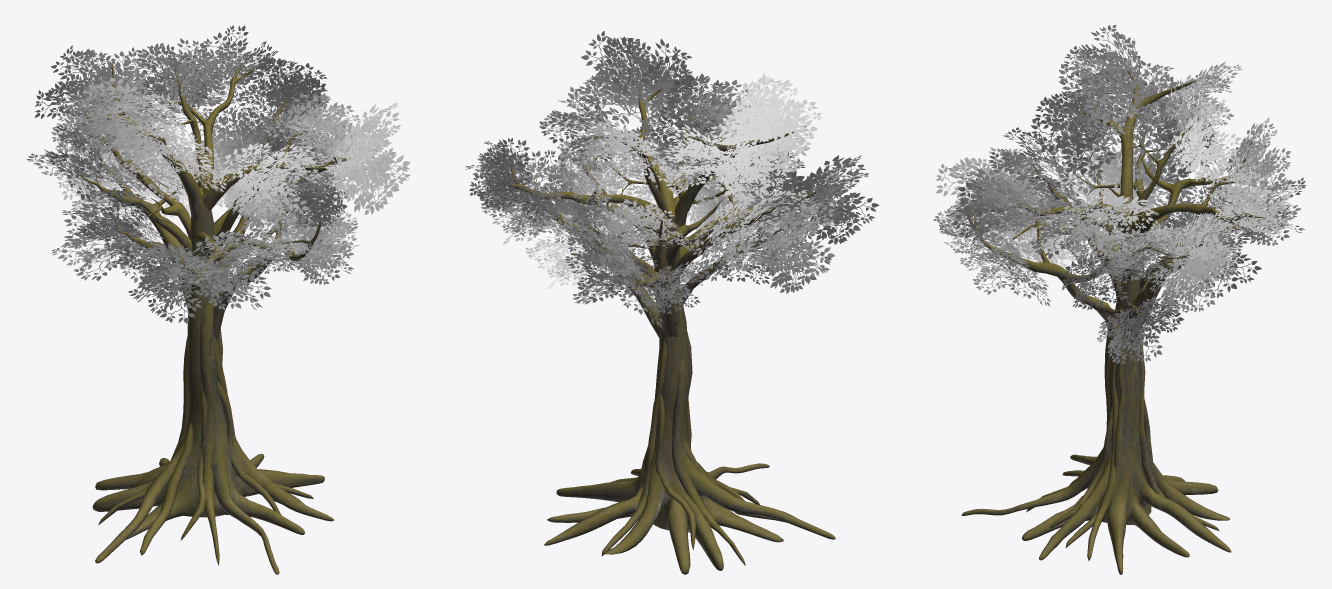
File: Mystical_Tree_1A1.fbx
3 views of the same model, side by side, from view 1: azimuth 30°, elevation 25°; view 2: azimuth 150°, elevation 25°; view 3: azimuth 270°, elevation 25° (orthographic). The views are drawn at different scales.
Visible parts, largest first — view 1: Mystical_Tree_1A1; view 2: Mystical_Tree_1A1; view 3: Mystical_Tree_1A1.
Boxes of the visible parts, x1,y1,x2,y2 form: Mystical_Tree_1A1: [26, 25, 410, 574]; Mystical_Tree_1A1: [465, 31, 879, 574]; Mystical_Tree_1A1: [933, 25, 1306, 574].
Size of what is drawn, in the model's own units: 16297 by 22259 by 17151.
